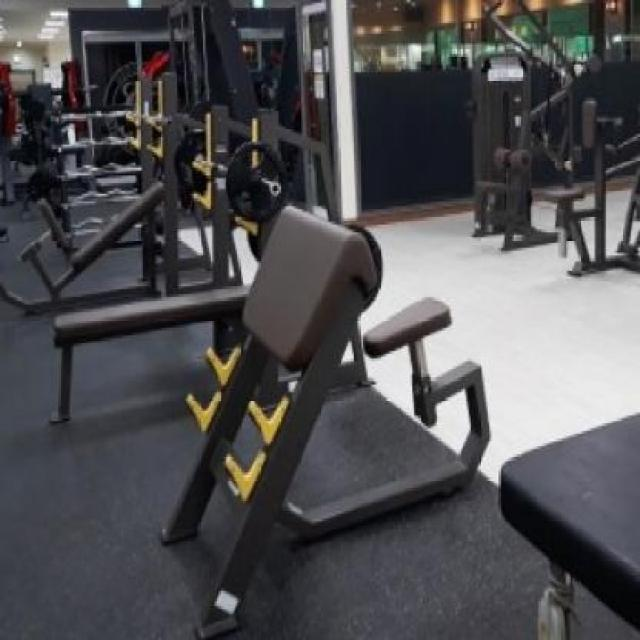arm curl machine: (155, 203, 492, 640)
